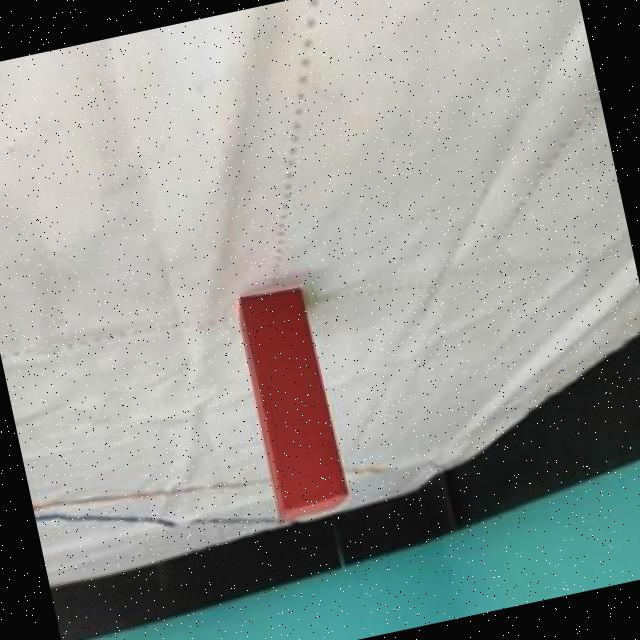redbox: (232, 284, 354, 523)
